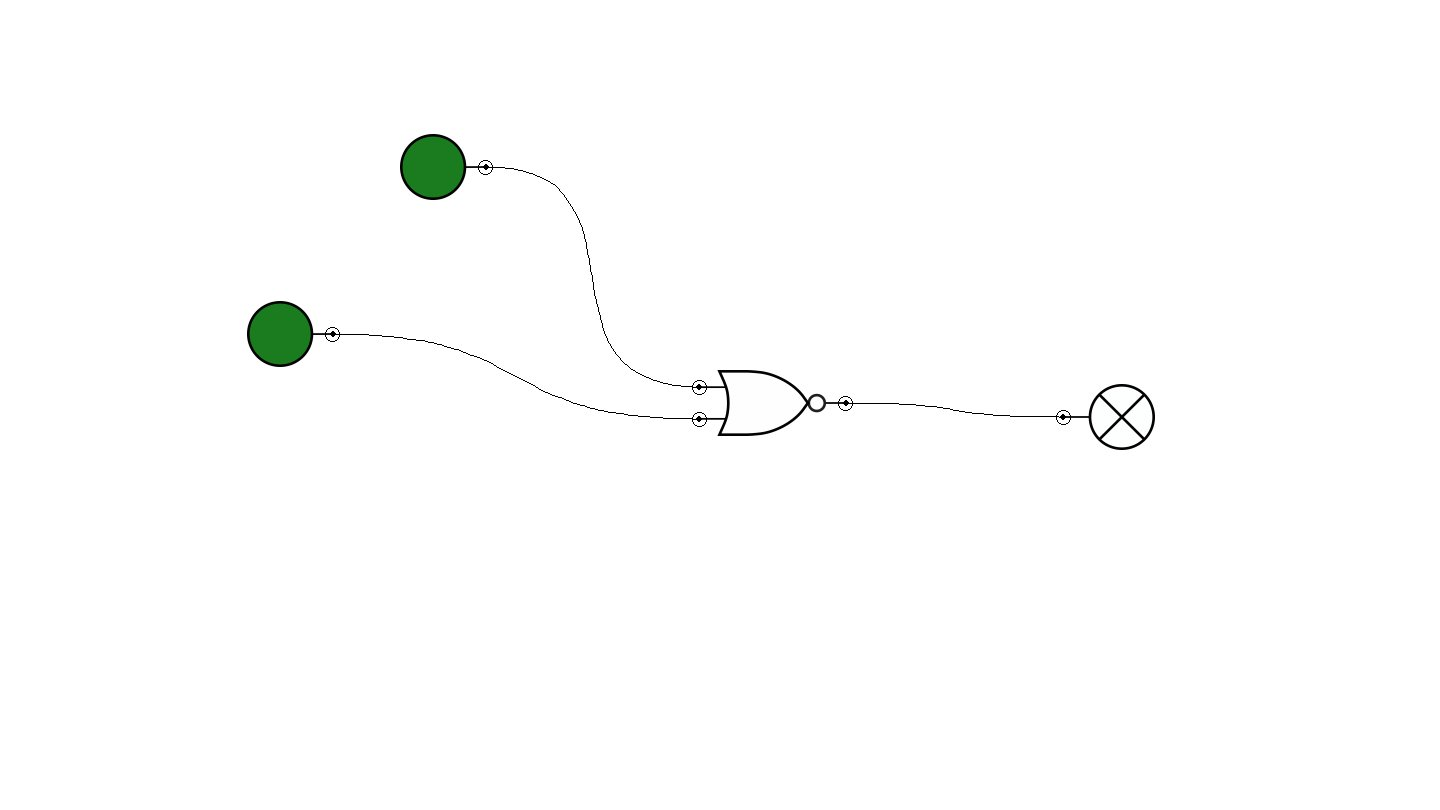bulb: (1056, 384, 1155, 450)
nor: (692, 370, 853, 436)
switch_True: (247, 301, 340, 367), (400, 134, 493, 200)
